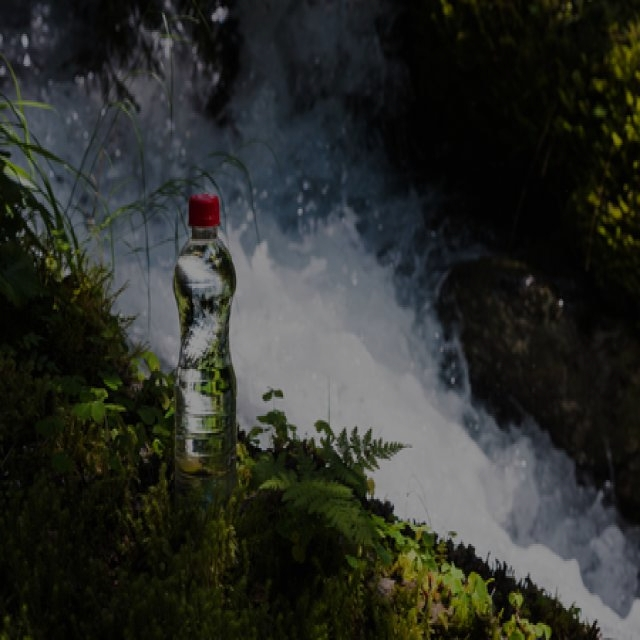Plastic-bottle: (162, 183, 246, 532)
